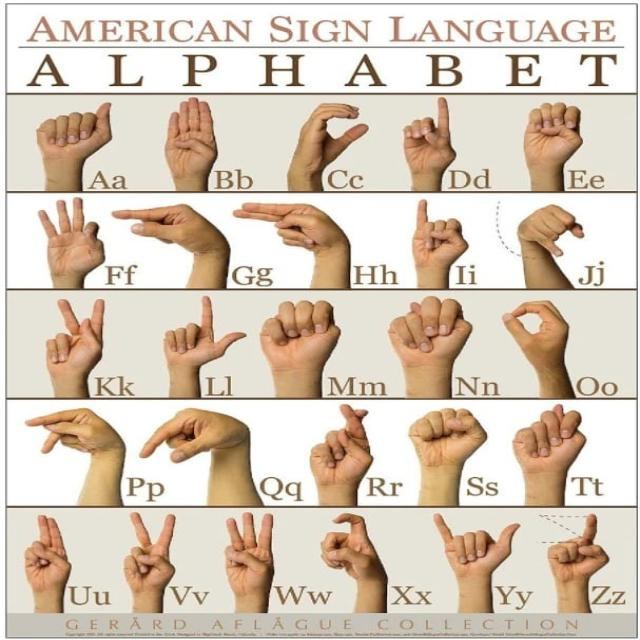A: (14, 99, 130, 190)
B: (148, 95, 238, 191)
C: (280, 98, 381, 192)
D: (393, 94, 475, 192)
E: (506, 99, 601, 191)
F: (28, 196, 112, 288)
G: (107, 193, 242, 290)
H: (229, 193, 369, 287)
I: (395, 196, 485, 288)
J: (491, 191, 627, 286)
K: (15, 294, 140, 399)
L: (152, 296, 255, 398)
M: (255, 296, 352, 396)
N: (371, 295, 494, 399)
O: (497, 293, 603, 399)
P: (12, 401, 155, 508)
Q: (128, 405, 304, 509)
R: (286, 403, 413, 508)
S: (387, 404, 511, 506)
T: (499, 402, 625, 504)
U: (11, 508, 119, 616)
V: (95, 506, 217, 614)
W: (199, 508, 307, 613)
X: (298, 506, 420, 614)
Y: (406, 506, 528, 614)
Z: (514, 504, 632, 614)
